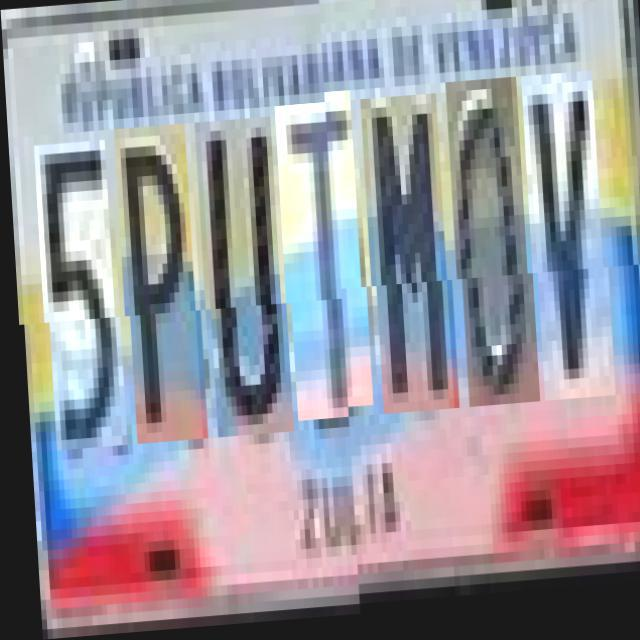5: (37, 142, 122, 452)
M: (364, 110, 454, 430)
O: (449, 95, 535, 425)
P: (118, 126, 202, 446)
T: (278, 106, 368, 426)
U: (198, 121, 288, 441)
V: (525, 90, 611, 420)
